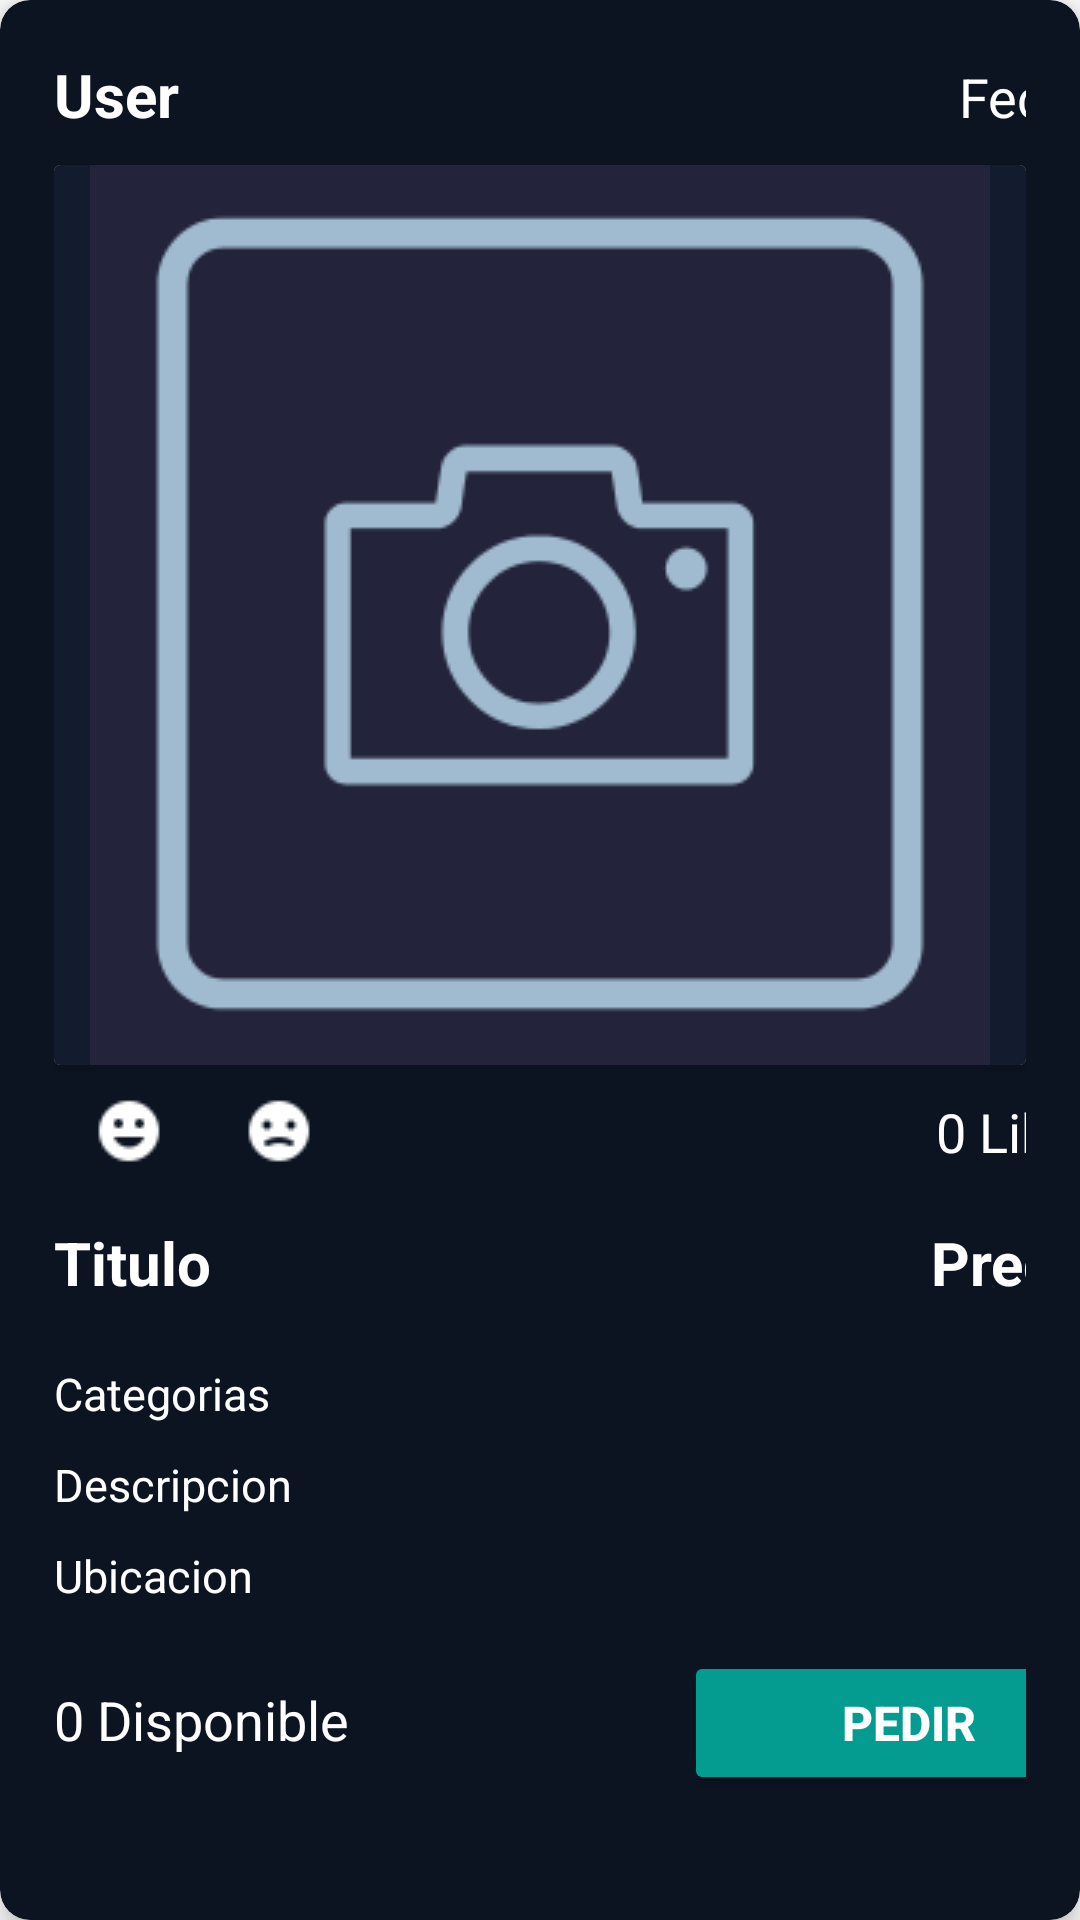

Named icons in this screenshot (1080x1920) and their bounding boxes, (x1,y1,x2,y2):
triste: (248,1100,310,1162)
